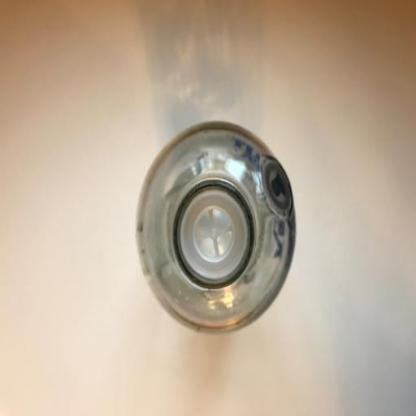trash: (133, 118, 298, 338)
